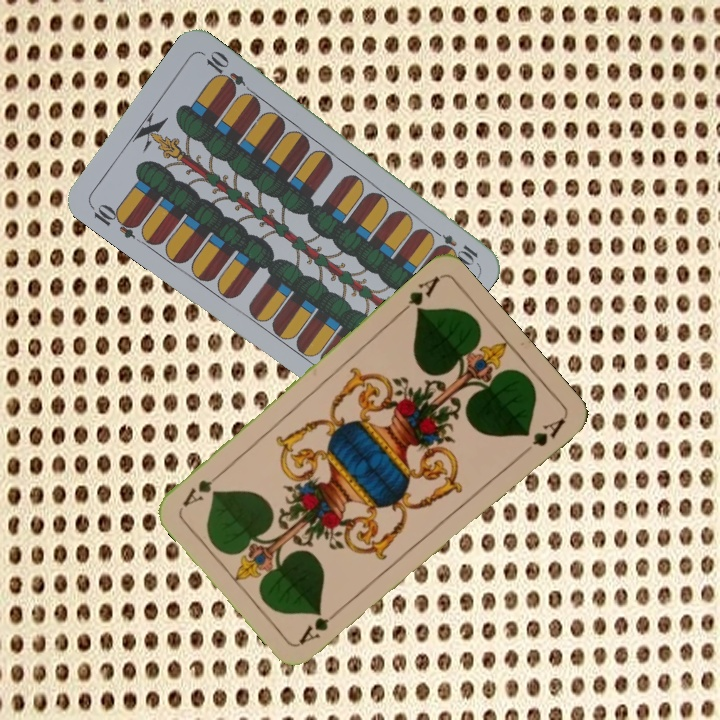E10: (86, 199, 142, 241), (426, 224, 481, 266)
GA: (394, 272, 443, 317), (295, 603, 345, 647)
